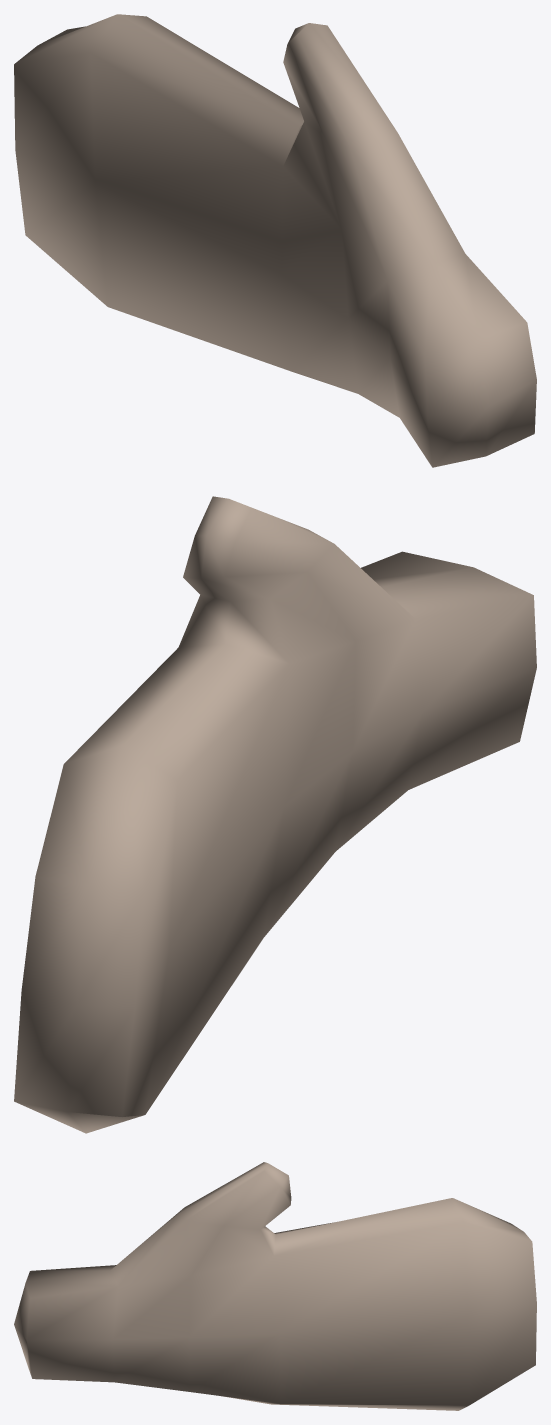
File: HandRight.dae
3 renders of one model, top to bottom at view 1: azimuth 30°, elevation 25°; view 2: azimuth 150°, elevation 25°; view 3: azimuth 270°, elevation 25°, orthographic. The views are drawn at different scales.
Parts seen in each view (by area): view 1: Hand_R; view 2: Hand_R; view 3: Hand_R.
Part boxes in pixels (x1=…): Hand_R: x1=14, y1=14, x2=536, y2=467; Hand_R: x1=14, y1=496, x2=536, y2=1133; Hand_R: x1=14, y1=1162, x2=536, y2=1410.
Bounding box in the file's own units: 0.0518 × 0.2031 × 0.1105.
